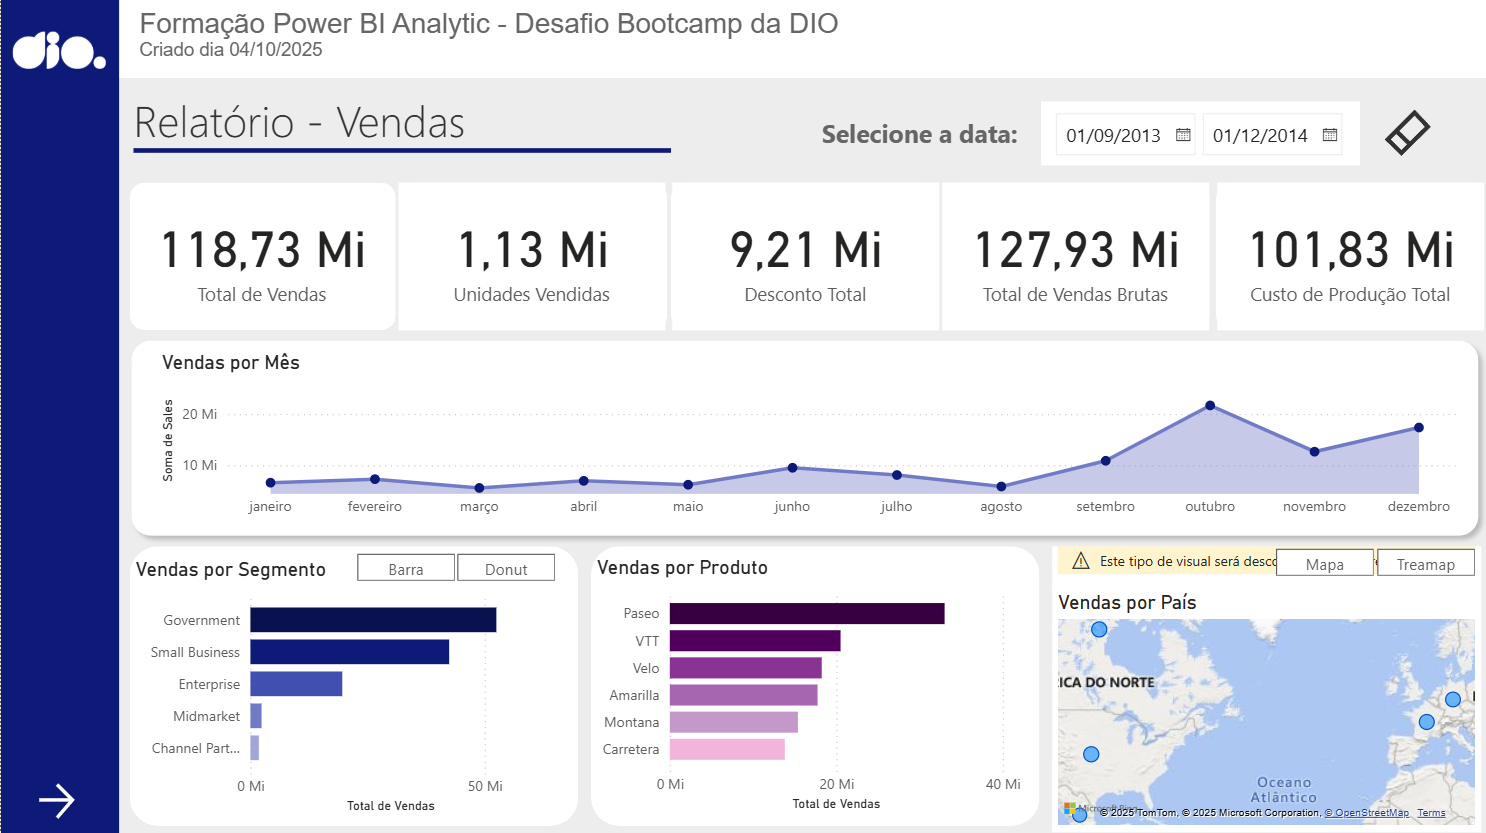

What the dashboard file says about the page in this screenshot:
{"tool":"powerbi","page":{"name":"Página 1","canvas":[1280,720],"ordinal":0},"visuals":[{"type":"shape","box":[100.7,0,1179.3,67.1],"z":0},{"type":"slicer","fields":{"Values":["Sheet1.Date"]},"box":[894.5,86.6,274.1,54.8],"z":0,"group":"g1"},{"type":"card","fields":{"Values":["Sum(Sheet1. Sales)"]},"box":[109.6,157.3,229.4,127],"z":0,"group":"g3"},{"type":"shape","box":[103.1,284.4,1176.6,185.9],"z":0,"group":"g2"},{"type":"shape","box":[110.9,470.3,385.9,240.6],"z":0,"group":"g4"},{"type":"shape","box":[507.8,470.3,385.9,240.6],"z":0,"group":"g5"},{"type":"map","title":"Vendas por País","fields":{"Size":["Sum(Sheet1. Sales)"],"Category":["Sheet1.Country"]},"box":[904.7,470.3,368.8,245.2],"z":0,"group":"g6"},{"type":"shape","box":[0,0,101.9,720],"z":1000},{"type":"textbox","box":[701.2,93.8,181.8,44.7],"z":1000,"group":"g1"},{"type":"card","fields":{"Values":["Sum(Sheet1.Units Sold)"]},"box":[341.9,157.3,229.4,127],"z":1000,"group":"g3"},{"type":"lineChart","title":"Vendas por Mês","fields":{"Category":["Sheet1.Date.Variation.Hierarquia de datas.Mês"],"Y":["Sum(Sheet1. Sales)"]},"box":[133.4,301.5,1127.5,153],"z":1000,"group":"g2"},{"type":"clusteredBarChart","title":"Vendas por Produto","fields":{"Y":["Sum(Sheet1. Sales)"],"Category":["Sheet1.Product"]},"box":[507.8,478.1,374.4,225.1],"z":1000,"group":"g5"},{"type":"clusteredBarChart","title":"Vendas por Segmento","fields":{"Category":["Sheet1.Segment"],"Y":["Sum(Sheet1. Sales)"]},"box":[110.9,479.6,365.8,225.1],"z":1000,"group":"g4"},{"type":"shape","box":[11.5,14.4,79.4,72.1],"z":2000},{"type":"card","fields":{"Values":["Sum(Sheet1.Discounts)"]},"box":[577.1,157.3,229.4,127],"z":2000,"group":"g3"},{"type":"actionButton","title":"Botão - Mapa","box":[1097.7,472.2,84.4,23.4],"z":2000,"group":"g6"},{"type":"image","box":[5.8,0,89.5,86.6],"z":3000},{"type":"card","fields":{"Values":["Sum(Sheet1.Gross Sales)"]},"box":[809.3,157.3,229.4,127],"z":3000,"group":"g3"},{"type":"actionButton","title":"Botão - Treamap","box":[1184.2,472.5,84.4,23.4],"z":3000,"group":"g6"},{"type":"actionButton","title":"Botão - Barra","box":[306.6,476.7,84.4,23.4],"z":3000,"group":"g4"},{"type":"textbox","box":[113.9,2.4,1136.2,64.7],"z":4000},{"type":"card","fields":{"Values":["Sum(Sheet1.COGS)"]},"box":[1046,157.3,229.4,127],"z":4000,"group":"g3"},{"type":"actionButton","title":"Botão - Donuts","box":[392.6,476.7,84.4,23.4],"z":4000,"group":"g4"},{"type":"shape","box":[110.3,157.2,228.9,127],"z":5000},{"type":"shape","box":[342.8,157.2,230.1,127],"z":6000},{"type":"shape","box":[576.5,157.2,230.1,127],"z":7000},{"type":"shape","box":[810.2,157.2,230.1,127],"z":8000},{"type":"shape","box":[1045.1,157.2,230.1,127],"z":9000},{"type":"shape","box":[113.9,73.1,462.6,112.7],"z":10000},{"type":"shape","box":[113.9,76.7,459,52.7],"z":11000},{"type":"group","id":"g1","title":"Filtro","box":[701.2,86.6,467.5,54.8],"z":12000},{"type":"group","id":"g2","title":"Gráfico de linha","box":[103.1,284.4,1176.6,185.9],"z":13000},{"type":"group","id":"g3","title":"Cartões","box":[109.6,157.3,1165.8,127],"z":14000},{"type":"group","id":"g4","title":"Gráfico de Barras 1","box":[110.9,470.3,385.9,240.6],"z":15000},{"type":"group","id":"g5","title":"Gráfico de Barras 2","box":[507.8,470.3,385.9,240.6],"z":16000},{"type":"group","id":"g6","title":"Gráfico Mapa","box":[904.7,470.3,368.8,246.9],"z":17000},{"type":"actionButton","box":[1186,93.5,64.5,45.2],"z":18000},{"type":"actionButton","box":[26.6,668.8,54.7,40.6],"z":19000}]}

Visuals, with their boxes on the page's 1280x720 design canvas (x1, y1, x2, y2). These are canvas units, not pixel positions in the 1486x833 screenshot, which may show the page scaled, cropped or inside an application window:
shape: crop(101, 0, 1280, 67)
slicer - Sheet1.Date: crop(894, 87, 1169, 141)
card - Sum(Sheet1. Sales): crop(110, 157, 339, 284)
shape: crop(103, 284, 1280, 470)
shape: crop(111, 470, 497, 711)
shape: crop(508, 470, 894, 711)
"Vendas por País" map: crop(905, 470, 1274, 716)
shape: crop(0, 0, 102, 720)
textbox: crop(701, 94, 883, 138)
card - Sum(Sheet1.Units Sold): crop(342, 157, 571, 284)
"Vendas por Mês" lineChart: crop(133, 302, 1261, 454)
"Vendas por Produto" clusteredBarChart: crop(508, 478, 882, 703)
"Vendas por Segmento" clusteredBarChart: crop(111, 480, 477, 705)
shape: crop(12, 14, 91, 86)
card - Sum(Sheet1.Discounts): crop(577, 157, 806, 284)
"Botão - Mapa" actionButton: crop(1098, 472, 1182, 496)
image: crop(6, 0, 95, 87)
card - Sum(Sheet1.Gross Sales): crop(809, 157, 1039, 284)
"Botão - Treamap" actionButton: crop(1184, 472, 1269, 496)
"Botão - Barra" actionButton: crop(307, 477, 391, 500)
textbox: crop(114, 2, 1250, 67)
card - Sum(Sheet1.COGS): crop(1046, 157, 1275, 284)
"Botão - Donuts" actionButton: crop(393, 477, 477, 500)
shape: crop(110, 157, 339, 284)
shape: crop(343, 157, 573, 284)
shape: crop(576, 157, 807, 284)
shape: crop(810, 157, 1040, 284)
shape: crop(1045, 157, 1275, 284)
shape: crop(114, 73, 576, 186)
shape: crop(114, 77, 573, 129)
"Filtro" group: crop(701, 87, 1169, 141)
"Gráfico de linha" group: crop(103, 284, 1280, 470)
"Cartões" group: crop(110, 157, 1275, 284)
"Gráfico de Barras 1" group: crop(111, 470, 497, 711)
"Gráfico de Barras 2" group: crop(508, 470, 894, 711)
"Gráfico Mapa" group: crop(905, 470, 1274, 717)
actionButton: crop(1186, 94, 1250, 139)
actionButton: crop(27, 669, 81, 709)
